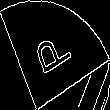P_SW: (32, 27, 78, 83)
